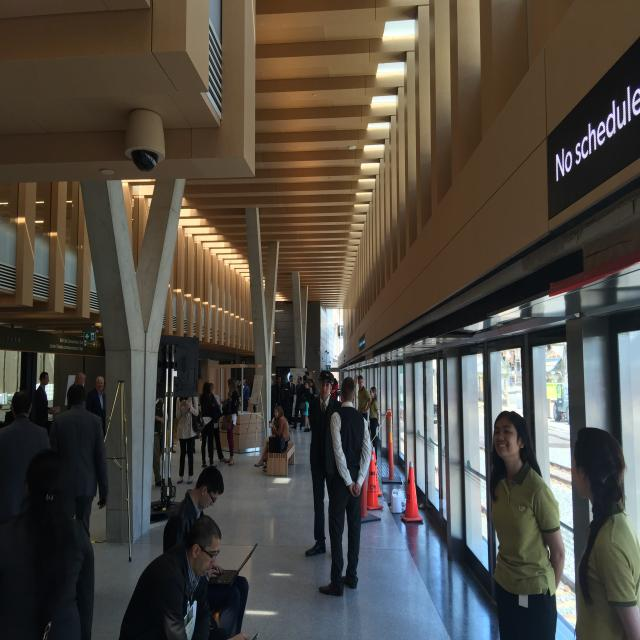body: (480, 409, 568, 640), (0, 449, 96, 640), (117, 517, 251, 640), (570, 422, 640, 640), (162, 464, 249, 636), (318, 375, 373, 598), (50, 384, 109, 541), (304, 370, 346, 558), (0, 391, 51, 516), (253, 406, 290, 472), (176, 394, 200, 484), (222, 376, 242, 468), (199, 382, 220, 468), (261, 405, 285, 471), (208, 382, 227, 463), (152, 398, 169, 487), (88, 375, 106, 438), (33, 371, 52, 428), (368, 384, 381, 450), (290, 376, 305, 430), (66, 371, 85, 411), (357, 375, 372, 422), (300, 380, 311, 432), (287, 375, 296, 425), (248, 374, 258, 413), (271, 378, 277, 423), (276, 375, 284, 407), (236, 379, 244, 411), (243, 378, 250, 412), (330, 378, 339, 399), (309, 378, 317, 401), (301, 415, 309, 429), (304, 371, 311, 382), (302, 375, 307, 384)
